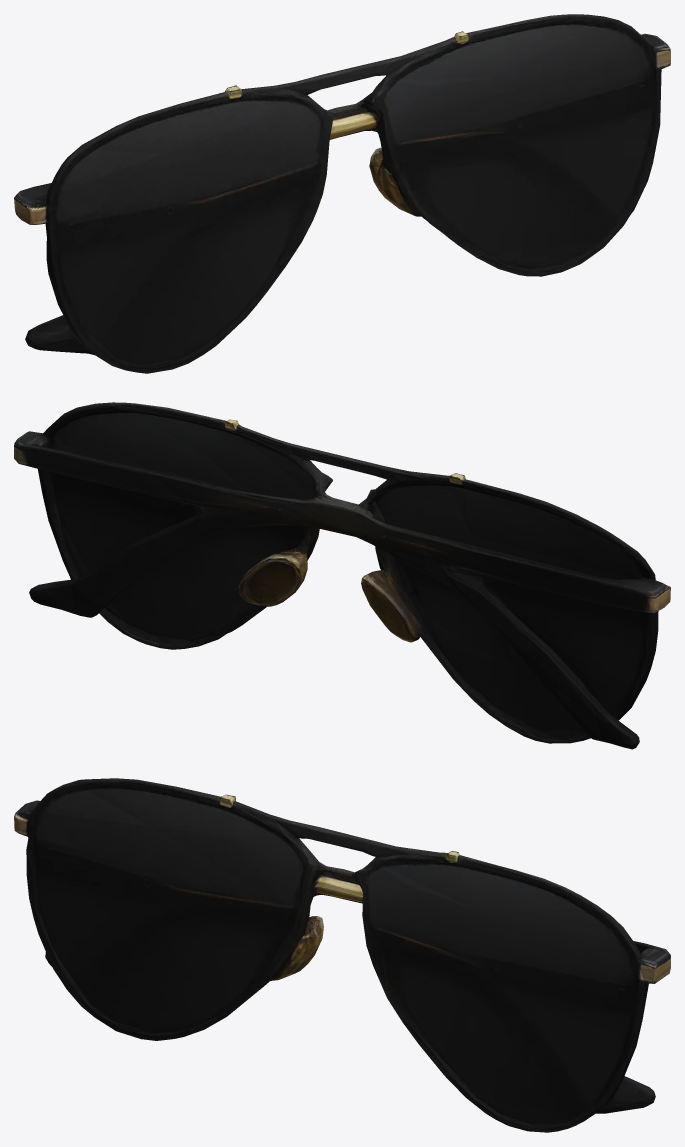
The model's file is black_glasses.glb.
3 renders of one model, top to bottom at view 1: azimuth 30°, elevation 25°; view 2: azimuth 150°, elevation 25°; view 3: azimuth 330°, elevation 25°, orthographic.
Visible parts, largest first — view 1: geometry_0; view 2: geometry_0; view 3: geometry_0.
Boxes of the visible parts, left/top/right/bottom form: geometry_0: left=14, top=14, right=670, bottom=373; geometry_0: left=14, top=402, right=670, bottom=749; geometry_0: left=14, top=778, right=670, bottom=1132.
Bounding box in the file's own units: 0.9988 × 0.3746 × 0.0854.
Materials: 1 (1 with a texture image).
